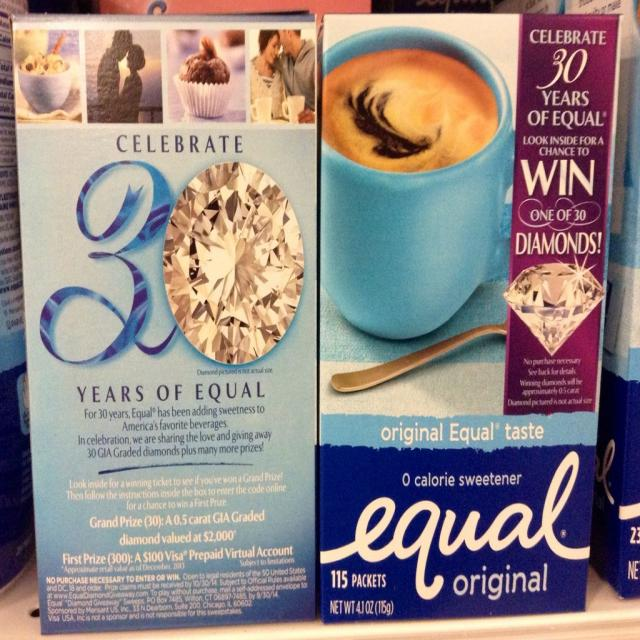Coffee: (320, 51, 501, 172)
